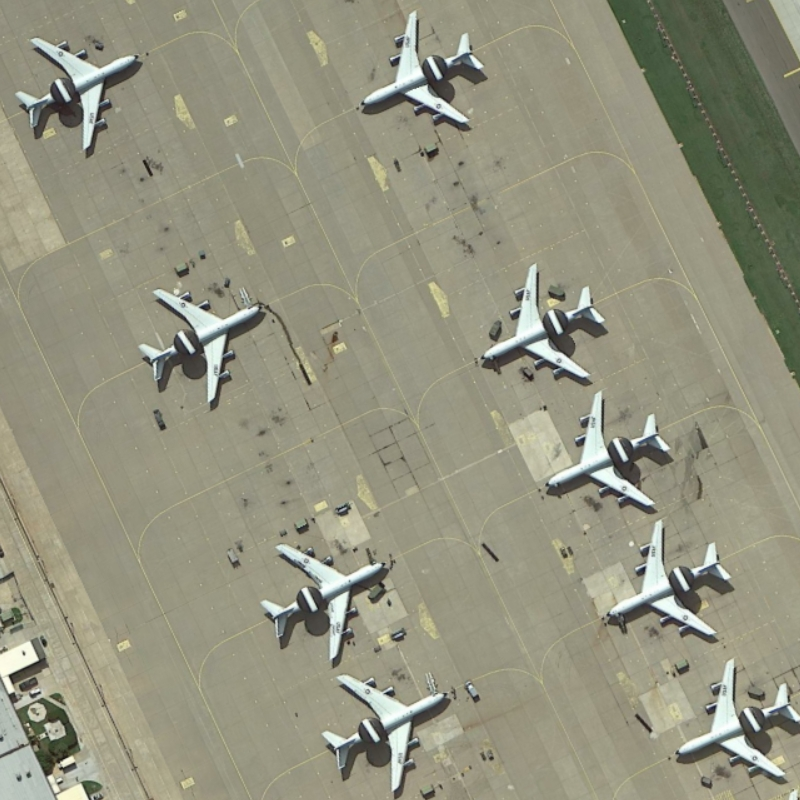A7: (597, 507, 737, 650), (137, 273, 276, 415), (350, 4, 495, 139), (254, 531, 395, 669), (539, 384, 681, 518), (11, 21, 147, 159), (475, 255, 610, 389), (665, 651, 800, 785), (320, 670, 455, 791)
